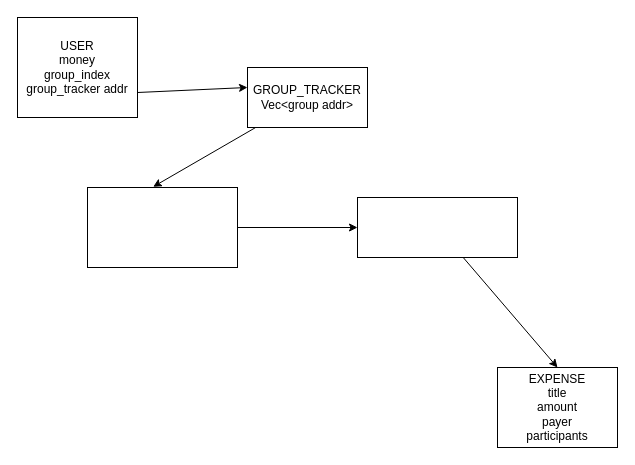
This 635x465 diagram has some shape labels left out. Here are the shapes that lost their labels. From the top down, the box of each, then its label:
(86, 186, 238, 268): GROUP title expense_index expense_tracker addr Vec<participants addr>
(356, 196, 518, 258): EXPENSE_TRACKER Vec<expense addr>
